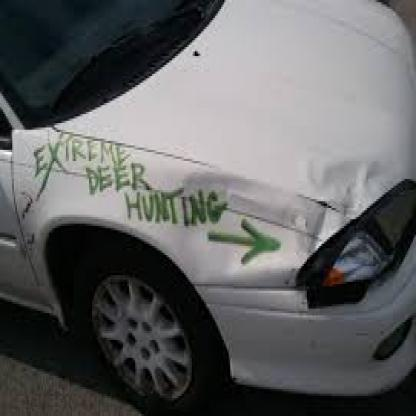dent: (318, 161, 374, 206), (294, 206, 322, 240)
